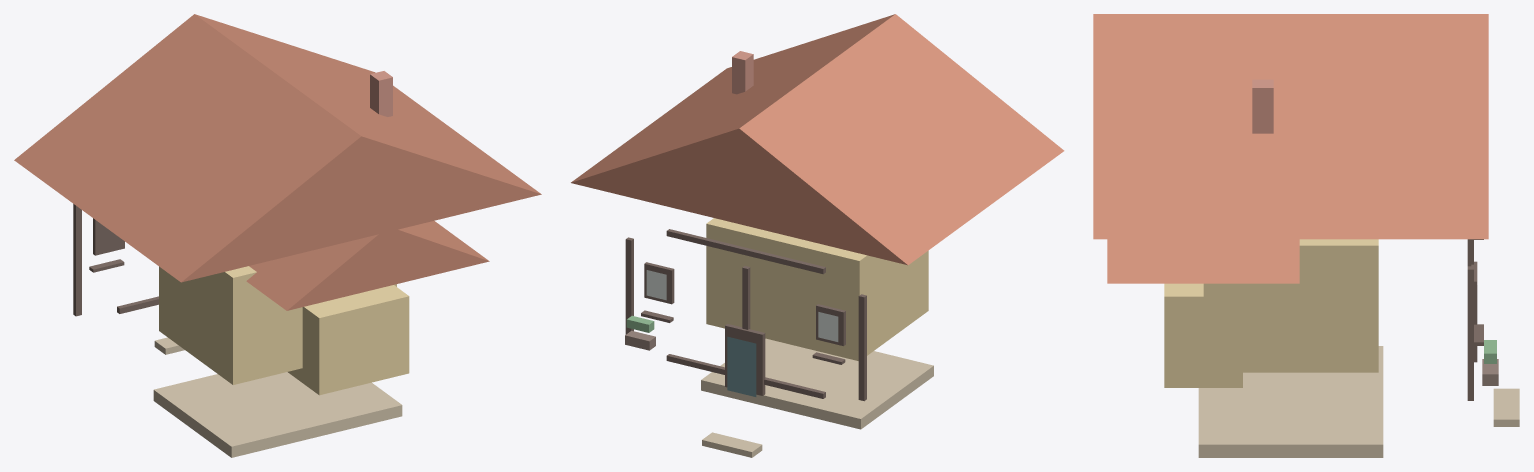
File: ravnbro-home-01.glb
The picture shows the model from 3 angles, left to right: view 1: azimuth 30°, elevation 25°; view 2: azimuth 150°, elevation 25°; view 3: azimuth 270°, elevation 25°; orthographic projection. The views are drawn at different scales.
Visible parts, largest first — view 1: roof, plinth, body, wing_roof, wing, up_-1.04, chimney, wf_-0.77; view 2: roof, body, plinth, door, beam_1.62, door_frame, beam_0.55, up_-1.04, step, chimney, up_1.04, wf_0.77 (+4 smaller); view 3: roof, body, plinth, wing_roof, wing, chimney, step, up_1.04.
Boxes of the visible parts, bbox=[...] form: roof: bbox=[14, 14, 541, 282]; plinth: bbox=[153, 372, 402, 457]; body: bbox=[159, 266, 396, 384]; wing_roof: bbox=[246, 221, 489, 310]; wing: bbox=[288, 285, 409, 395]; up_-1.04: bbox=[73, 204, 81, 316]; chimney: bbox=[370, 71, 392, 116]; wf_-0.77: bbox=[93, 218, 124, 255]; roof: bbox=[571, 14, 1064, 265]; body: bbox=[706, 218, 928, 360]; plinth: bbox=[701, 338, 933, 429]; door: bbox=[727, 336, 756, 396]; beam_1.62: bbox=[666, 229, 825, 274]; door_frame: bbox=[725, 324, 765, 395]; beam_0.55: bbox=[666, 354, 825, 398]; up_-1.04: bbox=[858, 294, 866, 401]; step: bbox=[702, 432, 762, 457]; chimney: bbox=[732, 51, 753, 94]; up_1.04: bbox=[625, 237, 633, 334]; wf_0.77: bbox=[644, 262, 674, 304]; roof: bbox=[1093, 14, 1488, 239]; body: bbox=[1203, 239, 1378, 372]; plinth: bbox=[1198, 346, 1383, 457]; wing_roof: bbox=[1107, 239, 1299, 283]; wing: bbox=[1164, 283, 1242, 387]; chimney: bbox=[1252, 79, 1273, 133]; step: bbox=[1493, 388, 1519, 426]; up_1.04: bbox=[1467, 266, 1473, 400].
Size of the model in its own units: 3.03 by 2.7 by 2.62.
